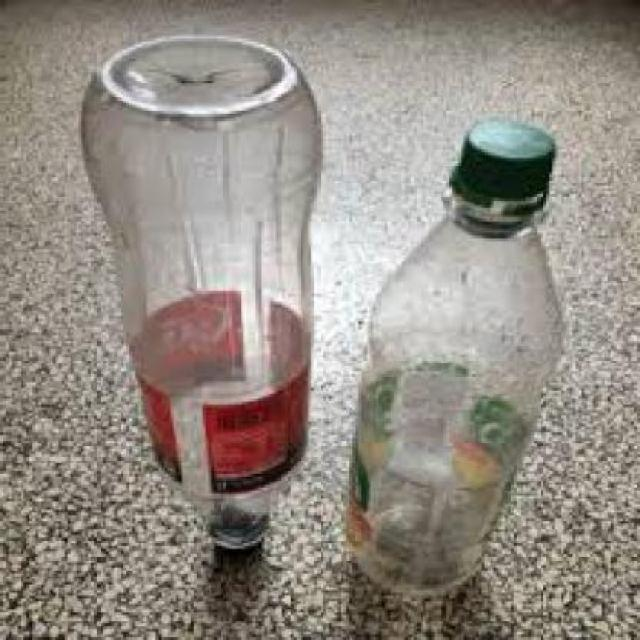PLASTIC: (82, 34, 328, 557), (348, 116, 564, 590), (132, 288, 314, 494), (452, 120, 557, 222), (212, 507, 270, 559)
